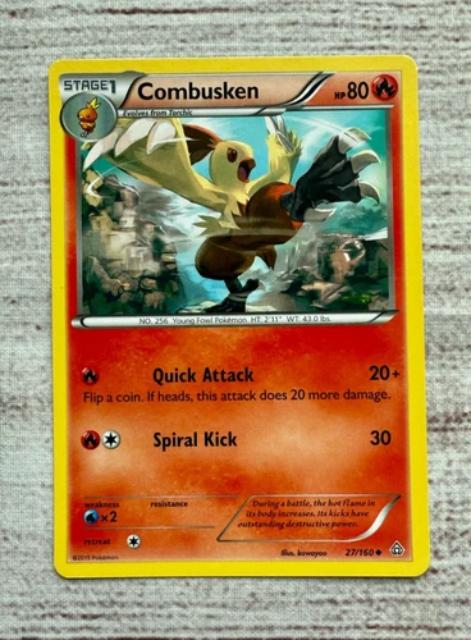Card: (46, 50, 434, 582)
Name: (129, 76, 262, 105)
